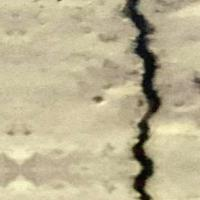crack: (92, 0, 166, 199)
